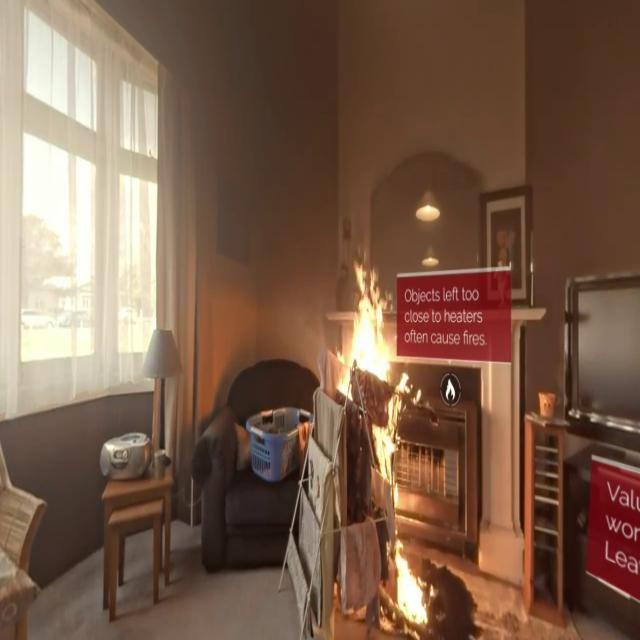Fire: (334, 256, 434, 624), (332, 258, 402, 412), (390, 533, 436, 632)
